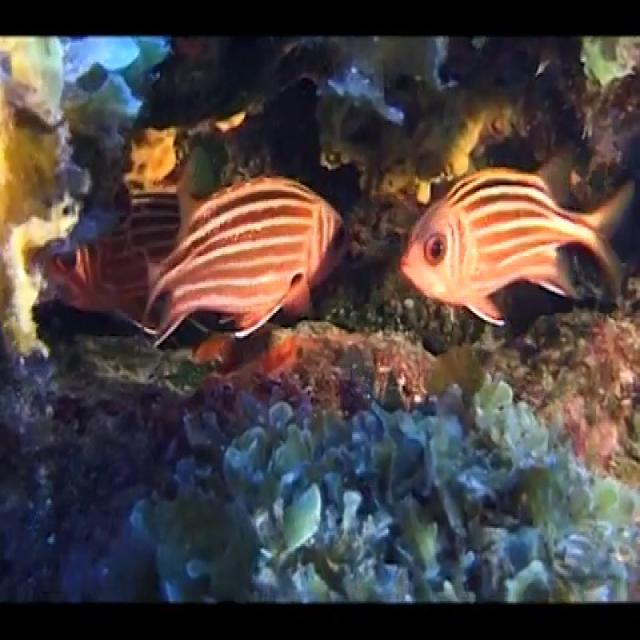Asker Baligi: (397, 163, 636, 329), (139, 170, 349, 348)
